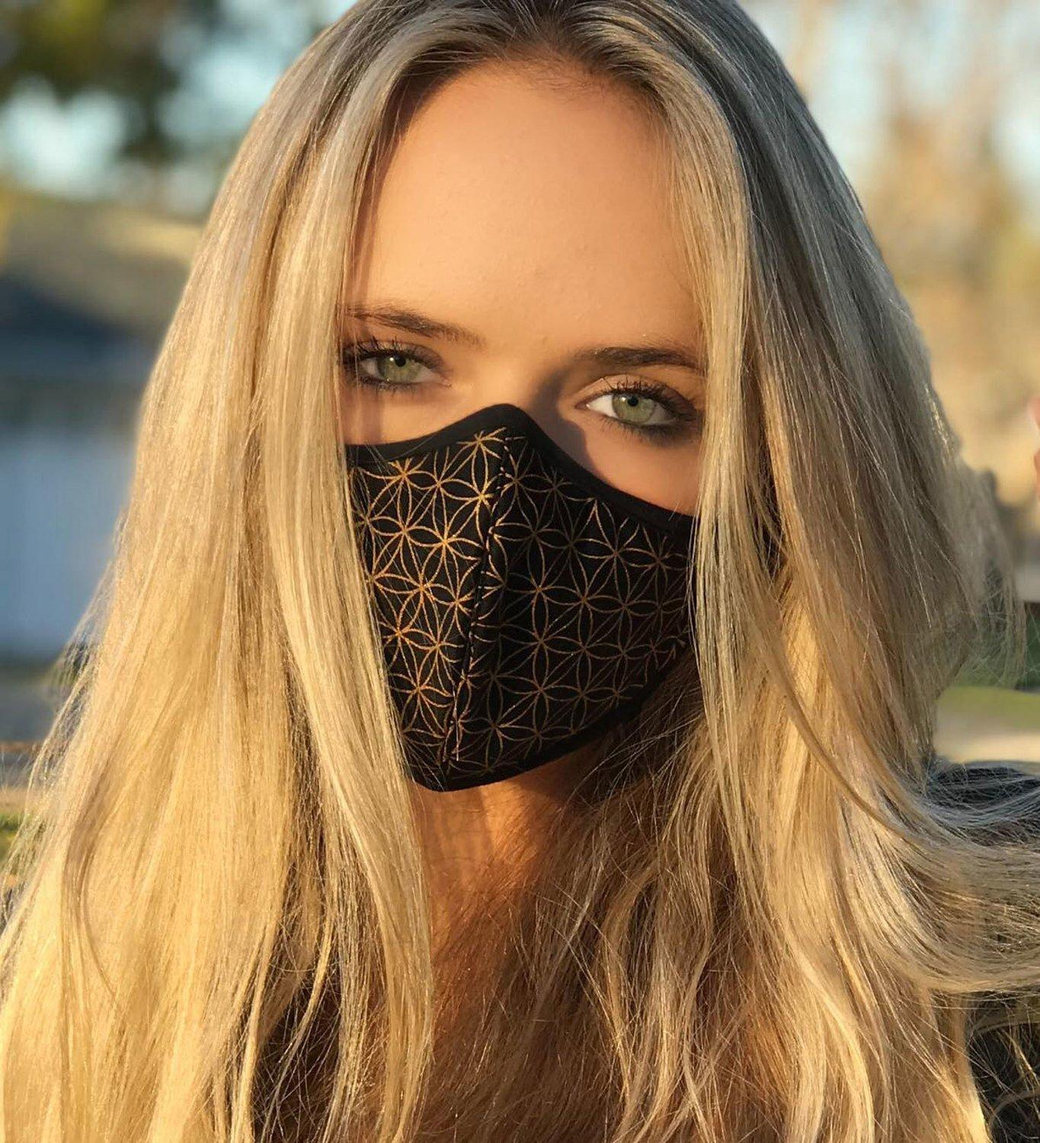Wearing Mask: (191, 8, 851, 1143)
